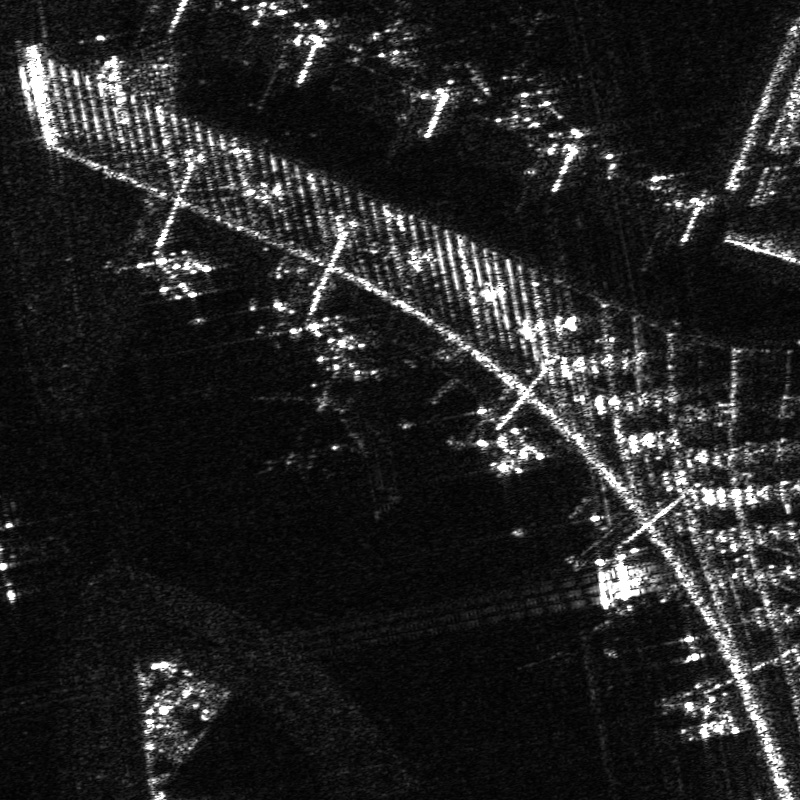Boeing787: (238, 374, 346, 476), (235, 1, 312, 35)
